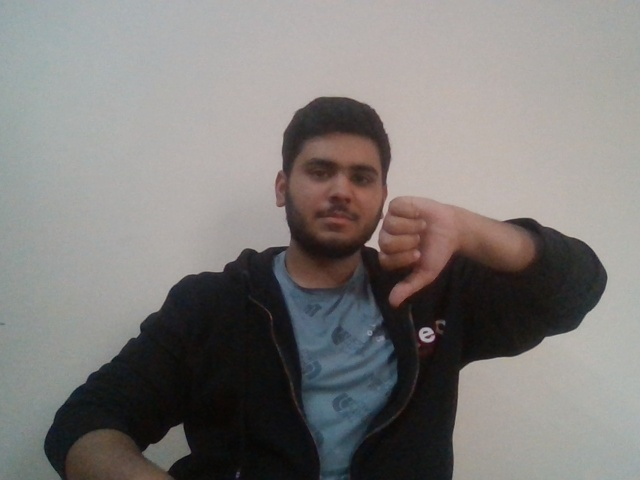No: (373, 193, 459, 311)
